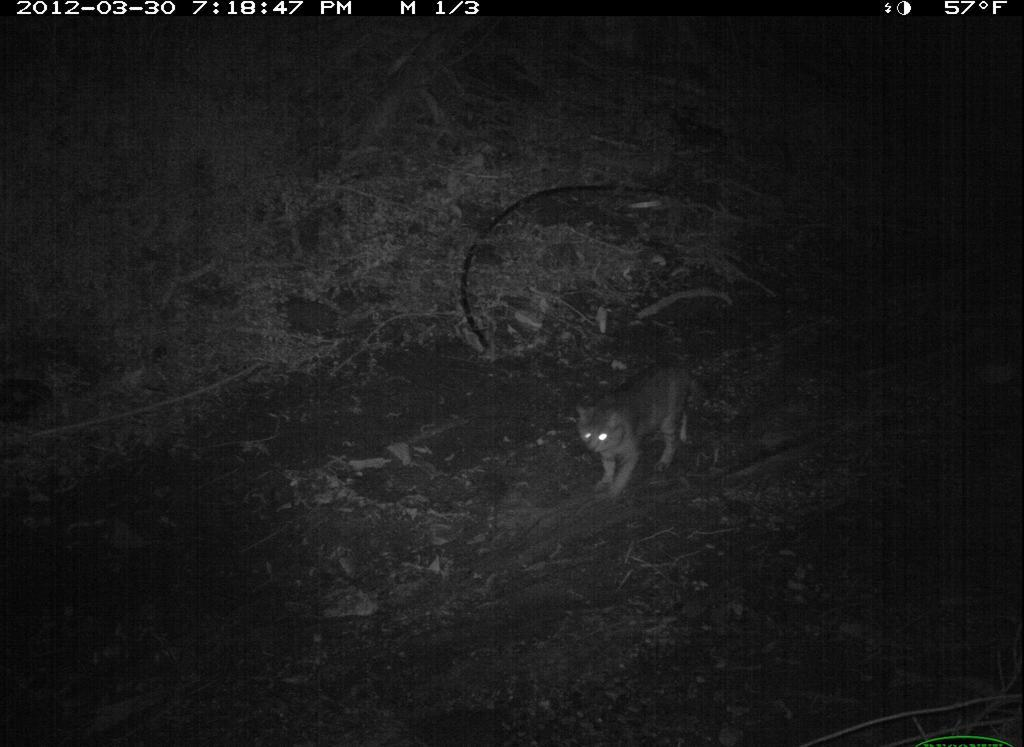cat: (573, 356, 728, 507)
